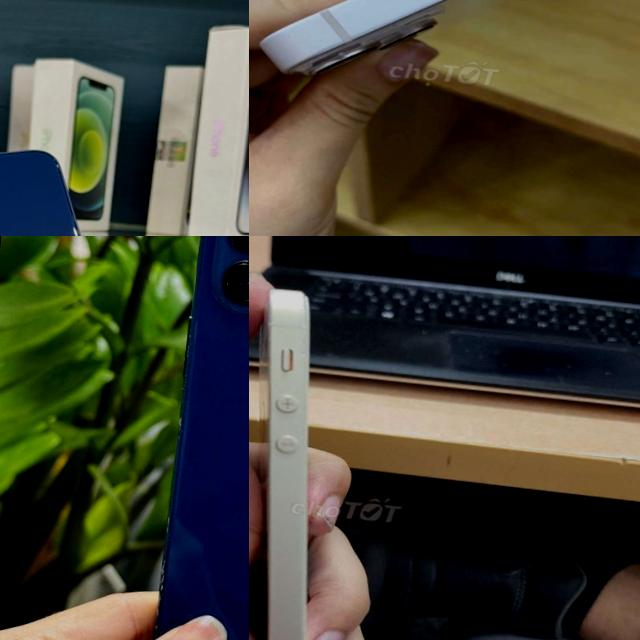gen_12_13: (149, 236, 249, 640), (252, 0, 610, 108), (0, 134, 144, 236)
gen_6: (258, 289, 309, 640)
